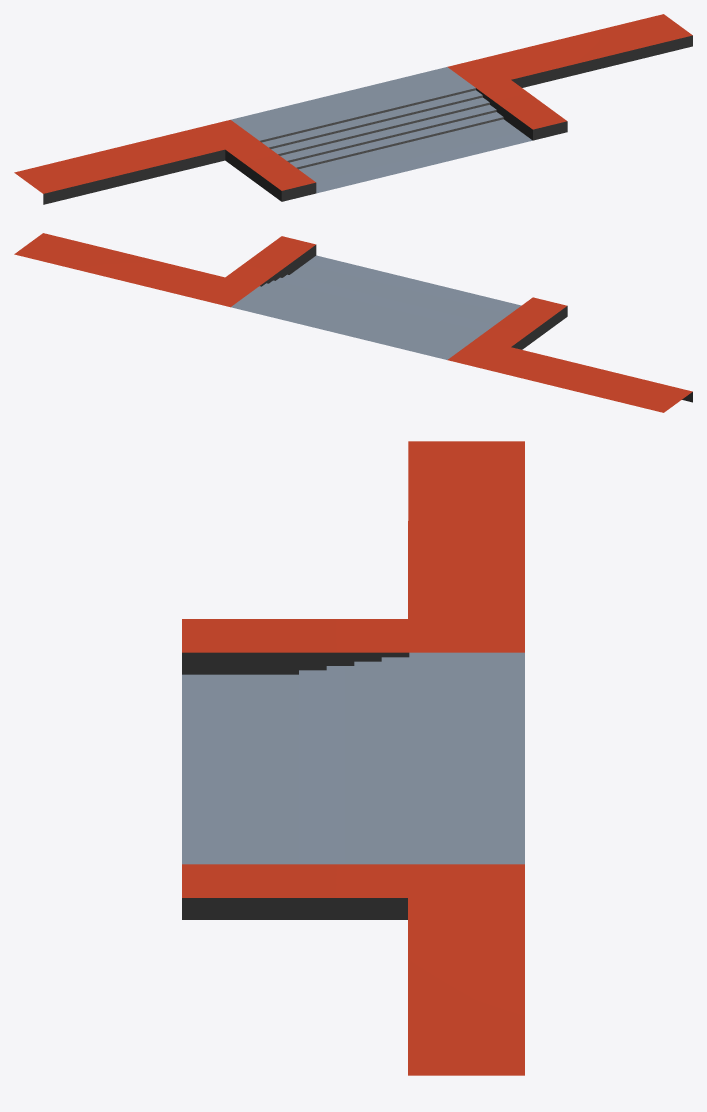
File: Outer Grass Floor.fbx
3 renders of one model, top to bottom at view 1: azimuth 30°, elevation 25°; view 2: azimuth 150°, elevation 25°; view 3: azimuth 270°, elevation 25°, orthographic. The views are drawn at different scales.
Visible parts, largest first — view 1: Outer Grass Floor; view 2: Outer Grass Floor; view 3: Outer Grass Floor.
Boxes of the visible parts, <box> form: Outer Grass Floor: <box>14,14,692,204</box>; Outer Grass Floor: <box>14,233,692,412</box>; Outer Grass Floor: <box>182,441,524,1075</box>.
Bounding box in the file's own units: 158 × 2.55 × 36.15.
